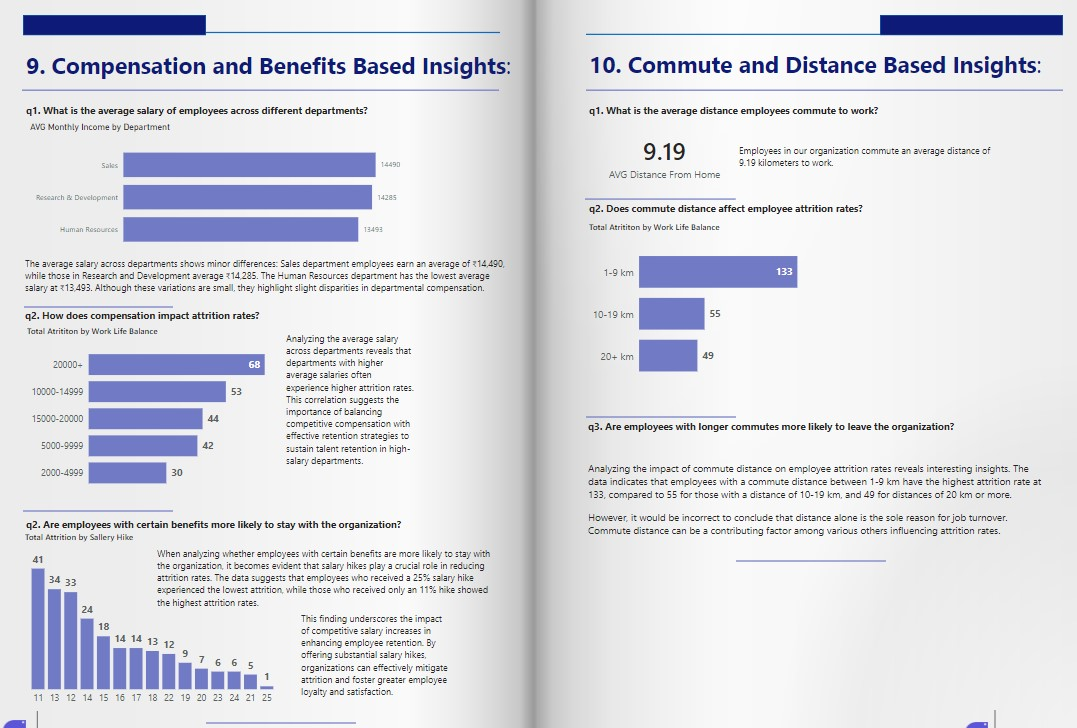

Layout of this report page (visuals, bound fields, positions):
{"tool":"powerbi","page":{"name":"Page 11-12","canvas":[2000,1600],"ordinal":6},"visuals":[{"type":"shape","box":[158.8,207.1,782.4,37.6],"z":0},{"type":"shape","box":[1082.4,209.8,782.4,37.3],"z":1000},{"type":"shape","box":[158.8,196.1,300,33.3],"z":2000},{"type":"shape","box":[1564.7,196.1,300,33.3],"z":3000},{"type":"shape","box":[174.5,1337.3,17.6,76.5],"z":4000},{"type":"textbox","box":[193.3,1356.7,146.7,56.7],"z":5000},{"type":"shape","box":[1743.7,1336.6,16.4,76.1],"z":6000},{"type":"textbox","box":[1760,1356.7,158.3,56.7],"z":7000},{"type":"image","box":[114.9,1347.8,59.7,47.8],"z":8000},{"type":"image","box":[1691.4,1351.6,59.7,47.8],"z":9000},{"type":"textbox","box":[159,249.2,816.4,63.9],"z":10000},{"type":"shape","box":[156.7,301.7,781.7,36.7],"z":11000},{"type":"textbox","box":[158.3,338.3,770,38.3],"z":12000},{"type":"textbox","box":[1082.1,248.2,848.2,64.3],"z":13000},{"type":"shape","box":[1082.2,301.8,781.7,36.7],"z":14000},{"type":"textbox","box":[1082.1,337.5,678.6,39.3],"z":15000},{"type":"shape","box":[1327.9,1080.3,245.9,23],"z":16000},{"type":"textbox","box":[127.8,29.6,633.3,75.9],"z":17000},{"type":"image","box":[9.3,22.2,135.2,92.6],"z":18000},{"type":"textbox","box":[1375,32.1,125,37.5],"z":19000},{"type":"card","fields":{"Values":["Measure.time"]},"box":[1468.5,25.9,342.6,42.6],"z":20000},{"type":"card","fields":{"Values":["Measure.time2"]},"box":[1775.9,25.9,153.7,42.6],"z":21000},{"type":"shape","box":[159,1003.3,245.9,13.1],"z":22000},{"type":"textbox","box":[157.4,588.5,803.3,88.5],"z":23000},{"type":"textbox","box":[1082,497.7,586.9,36.1],"z":24000},{"type":"textbox","box":[1080.3,856.1,678.7,39.3],"z":25000},{"type":"textbox","box":[609.8,1170.5,257.4,165.6],"z":26000},{"type":"shape","box":[1082,849.5,245.9,13.1],"z":27000},{"type":"clusteredBarChart","fields":{"Category":["HR-Employee-Attrition.Department"],"Y":["Avg(HR-Employee-Attrition.MonthlyRate)"]},"box":[165.6,372.1,626.2,224.6],"z":28000},{"type":"textbox","box":[157.4,673.8,768.9,47.5],"z":29000},{"type":"shape","box":[160.7,668.9,244.3,13.1],"z":30000},{"type":"shape","box":[1081.1,491.6,246.7,13.3],"z":31000},{"type":"image","box":[26.8,1485.7,89.3,92.9],"z":32000},{"type":"textbox","box":[112.5,1512.5,314.3,39.3],"z":33000},{"type":"card","fields":{"Values":["Avg(HR-Employee-Attrition.DistanceFromHome)"]},"box":[1104.9,373.8,211.5,109.8],"z":34000},{"type":"clusteredBarChart","title":"Total Atrititon by Work Life Balance","fields":{"Y":["Measure.Total Atrititon"],"Category":["HR-Employee-Attrition.Distance Group"]},"box":[1082,534.4,386.9,282],"z":35000},{"type":"textbox","box":[373.8,1063.9,567.2,124.6],"z":36000},{"type":"clusteredBarChart","title":"Total Atrititon by Work Life Balance","fields":{"Y":["Measure.Total Atrititon"],"Category":["HR-Employee-Attrition.MonthlyRate Range"]},"box":[160.7,704.9,424.6,283.6],"z":37000},{"type":"textbox","box":[585.2,711.5,223,247.5],"z":38000},{"type":"clusteredColumnChart","title":"Total Attrition by Sallery Hike","fields":{"Category":["HR-Employee-Attrition.PercentSalaryHike"],"Y":["Measure.Total Atrititon"]},"box":[157.4,1042.6,427.9,293.4],"z":39000},{"type":"textbox","box":[159,1016.4,768.9,47.5],"z":40000},{"type":"shape","box":[459,1345.9,245.9,23],"z":41000},{"type":"textbox","box":[1327.9,403.3,452.5,52.5],"z":42000},{"type":"textbox","box":[1080.3,924.6,757.4,155.7],"z":43000},{"type":"pageNavigator","box":[634.4,1501.6,1295.1,50.8],"z":43001}]}

Visuals, with their boxes on the page's 2000x1600 design canvas (x1, y1, x2, y2). These are canvas units, not pixel positions in the 1077x728 screenshot, which may show the page scaled, cropped or inside an application window:
shape: select_region(159, 207, 941, 245)
shape: select_region(1082, 210, 1865, 247)
shape: select_region(159, 196, 459, 229)
shape: select_region(1565, 196, 1865, 229)
shape: select_region(174, 1337, 192, 1414)
textbox: select_region(193, 1357, 340, 1413)
shape: select_region(1744, 1337, 1760, 1413)
textbox: select_region(1760, 1357, 1918, 1413)
image: select_region(115, 1348, 175, 1396)
image: select_region(1691, 1352, 1751, 1399)
textbox: select_region(159, 249, 975, 313)
shape: select_region(157, 302, 938, 338)
textbox: select_region(158, 338, 928, 377)
textbox: select_region(1082, 248, 1930, 312)
shape: select_region(1082, 302, 1864, 338)
textbox: select_region(1082, 338, 1761, 377)
shape: select_region(1328, 1080, 1574, 1103)
textbox: select_region(128, 30, 761, 106)
image: select_region(9, 22, 144, 115)
textbox: select_region(1375, 32, 1500, 70)
card - Measure.time: select_region(1468, 26, 1811, 68)
card - Measure.time2: select_region(1776, 26, 1930, 68)
shape: select_region(159, 1003, 405, 1016)
textbox: select_region(157, 588, 961, 677)
textbox: select_region(1082, 498, 1669, 534)
textbox: select_region(1080, 856, 1759, 895)
textbox: select_region(610, 1170, 867, 1336)
shape: select_region(1082, 850, 1328, 863)
clusteredBarChart - HR-Employee-Attrition.Department x Avg(HR-Employee-Attrition.MonthlyRate): select_region(166, 372, 792, 597)
textbox: select_region(157, 674, 926, 721)
shape: select_region(161, 669, 405, 682)
shape: select_region(1081, 492, 1328, 505)
image: select_region(27, 1486, 116, 1579)
textbox: select_region(112, 1512, 427, 1552)
card - Avg(HR-Employee-Attrition.DistanceFromHome): select_region(1105, 374, 1316, 484)
"Total Atrititon by Work Life Balance" clusteredBarChart: select_region(1082, 534, 1469, 816)
textbox: select_region(374, 1064, 941, 1188)
"Total Atrititon by Work Life Balance" clusteredBarChart: select_region(161, 705, 585, 988)
textbox: select_region(585, 712, 808, 959)
"Total Attrition by Sallery Hike" clusteredColumnChart: select_region(157, 1043, 585, 1336)
textbox: select_region(159, 1016, 928, 1064)
shape: select_region(459, 1346, 705, 1369)
textbox: select_region(1328, 403, 1780, 456)
textbox: select_region(1080, 925, 1838, 1080)
pageNavigator: select_region(634, 1502, 1930, 1552)
